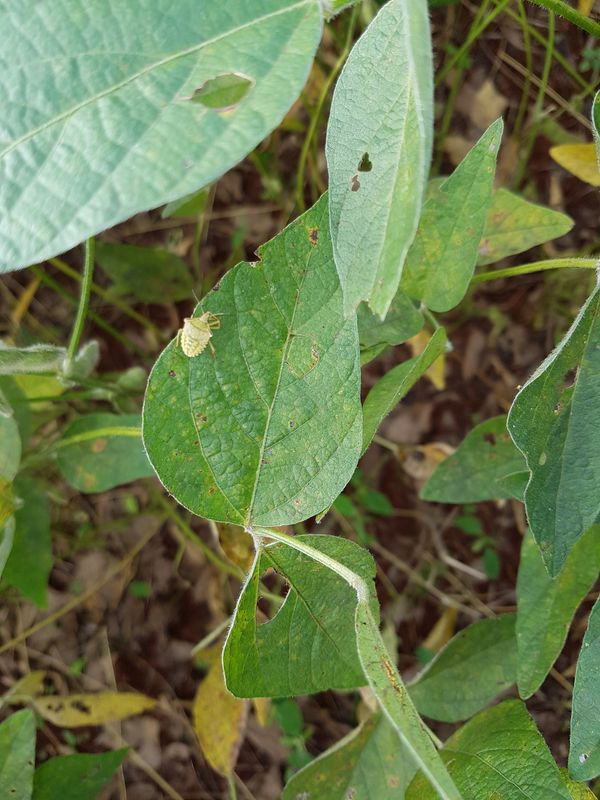Euschistus_heros_ninfa: (170, 301, 226, 364)
